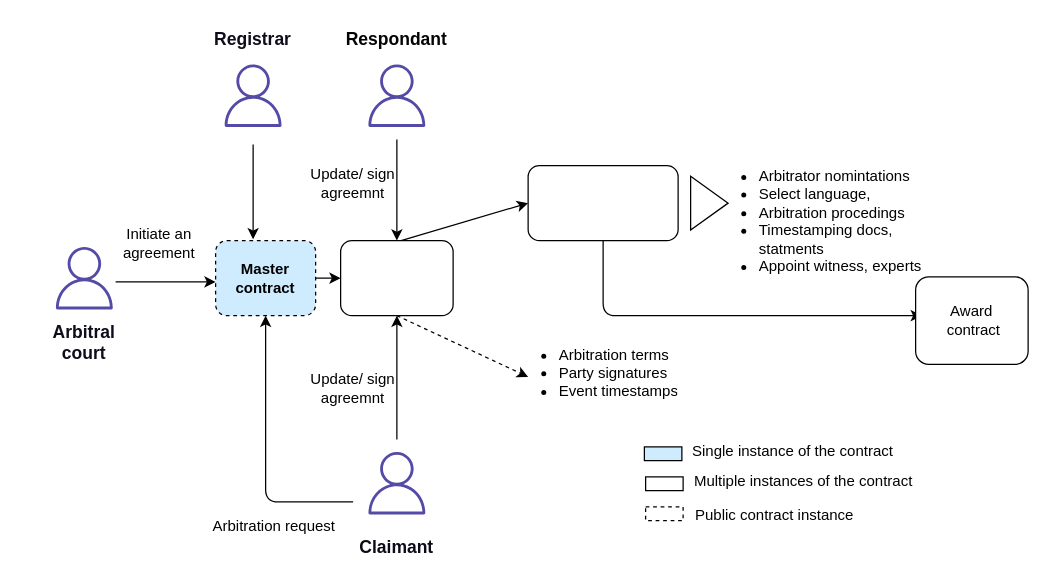
This 1050x588 diagram has some shape labels left out. The box of each missing label's shape, as (x1, y1, x2, y2) in pixels:
Agreement contract: (339, 239, 453, 316)
Procedure contract: (527, 164, 678, 241)
